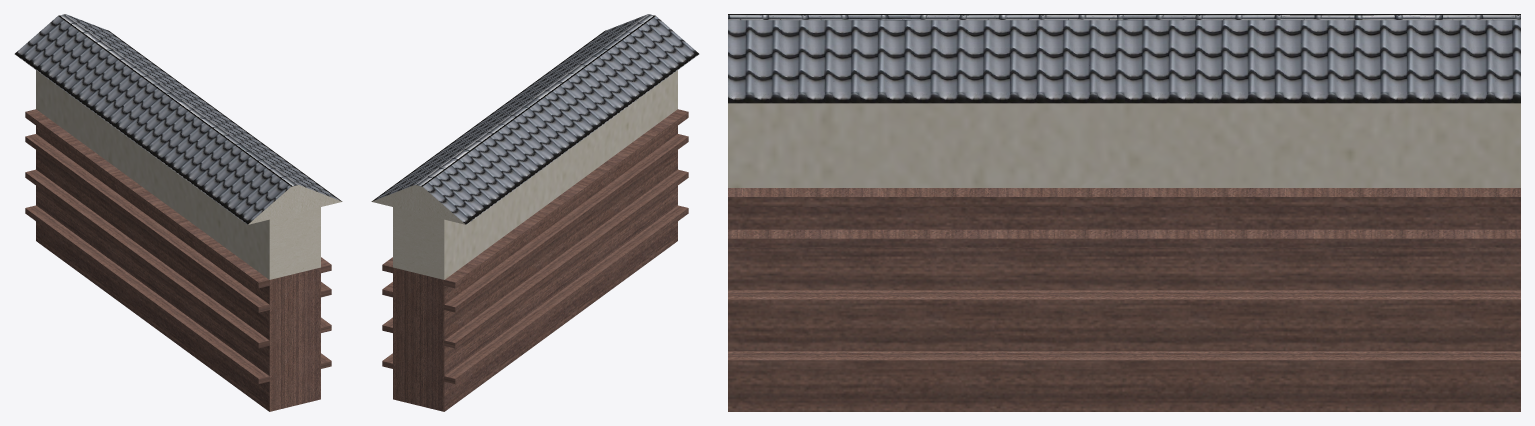
File: kabe.fbx
3 renders of one model, left to right at view 1: azimuth 30°, elevation 25°; view 2: azimuth 150°, elevation 25°; view 3: azimuth 270°, elevation 25°, orthographic. The views are drawn at different scales.
Parts seen in each view (by area): view 1: 立方体; view 2: 立方体; view 3: 立方体.
Boxes of the visible parts, x1=… form: 立方体: x1=14, y1=14, x2=342, y2=411; 立方体: x1=371, y1=14, x2=699, y2=411; 立方体: x1=728, y1=14, x2=1520, y2=411.
Bounding box in the file's own units: 8.69 × 19.23 × 36.99.
Materials: 3 (3 with a texture image).
